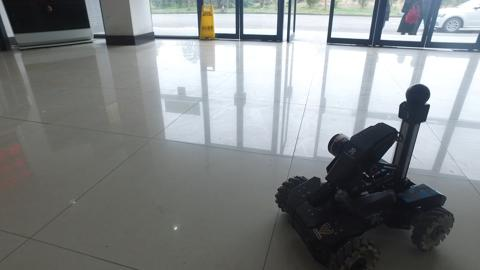chariot: (274, 83, 455, 270)
